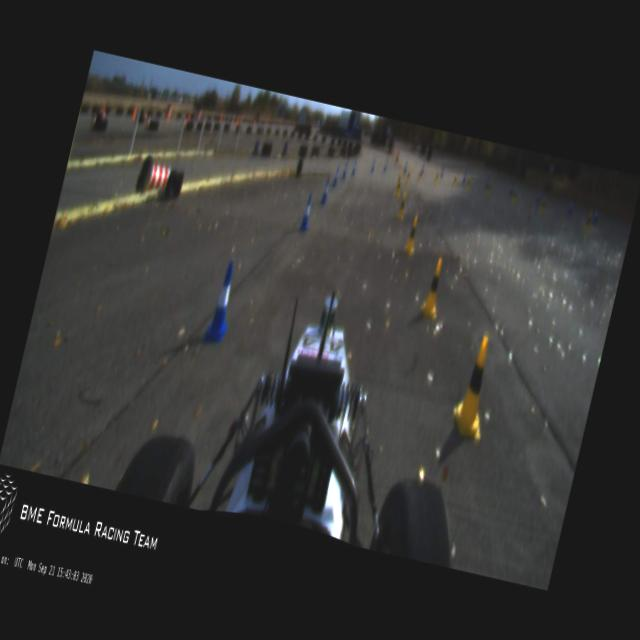blue_cone: (204, 260, 242, 342), (298, 193, 314, 230), (320, 178, 330, 204), (332, 167, 340, 186), (566, 198, 574, 215), (350, 160, 357, 174), (592, 210, 599, 224), (342, 162, 348, 178), (508, 182, 514, 198), (536, 189, 542, 204), (370, 158, 376, 172), (382, 158, 388, 172), (420, 162, 426, 174), (484, 177, 489, 191), (403, 160, 408, 172), (462, 170, 466, 184), (440, 165, 444, 178)
unknown_cone: (395, 149, 400, 162)
yellow_cone: (447, 332, 503, 443), (419, 257, 449, 319), (402, 215, 422, 257), (396, 191, 410, 220), (584, 210, 594, 233), (394, 171, 402, 190), (394, 178, 402, 196), (539, 197, 547, 215), (433, 167, 440, 184), (404, 168, 410, 184), (452, 172, 458, 188), (465, 176, 471, 192), (486, 181, 492, 196), (512, 189, 518, 204), (417, 166, 422, 182)
